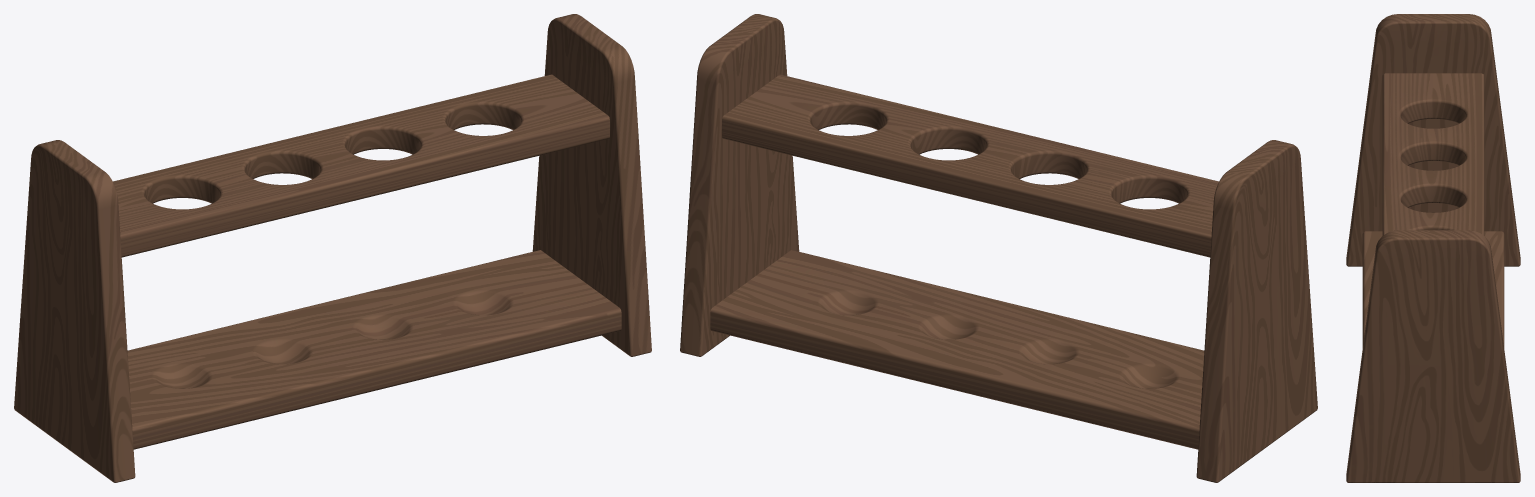
File: test_tube_rack.glb
3 renders of one model, left to right at view 1: azimuth 30°, elevation 25°; view 2: azimuth 150°, elevation 25°; view 3: azimuth 270°, elevation 25°, orthographic. The views are drawn at different scales.
Visible parts, largest first — view 1: test_tube_rack_base_stylized_lod0; view 2: test_tube_rack_base_stylized_lod0; view 3: test_tube_rack_base_stylized_lod0.
Boxes of the visible parts, <box> form: test_tube_rack_base_stylized_lod0: <box>14,14,651,482</box>; test_tube_rack_base_stylized_lod0: <box>680,14,1317,482</box>; test_tube_rack_base_stylized_lod0: <box>1346,14,1520,482</box>.
Size of the model in its own units: 0.2759 by 0.1398 by 0.09.
Materials: 1 (1 with a texture image).
